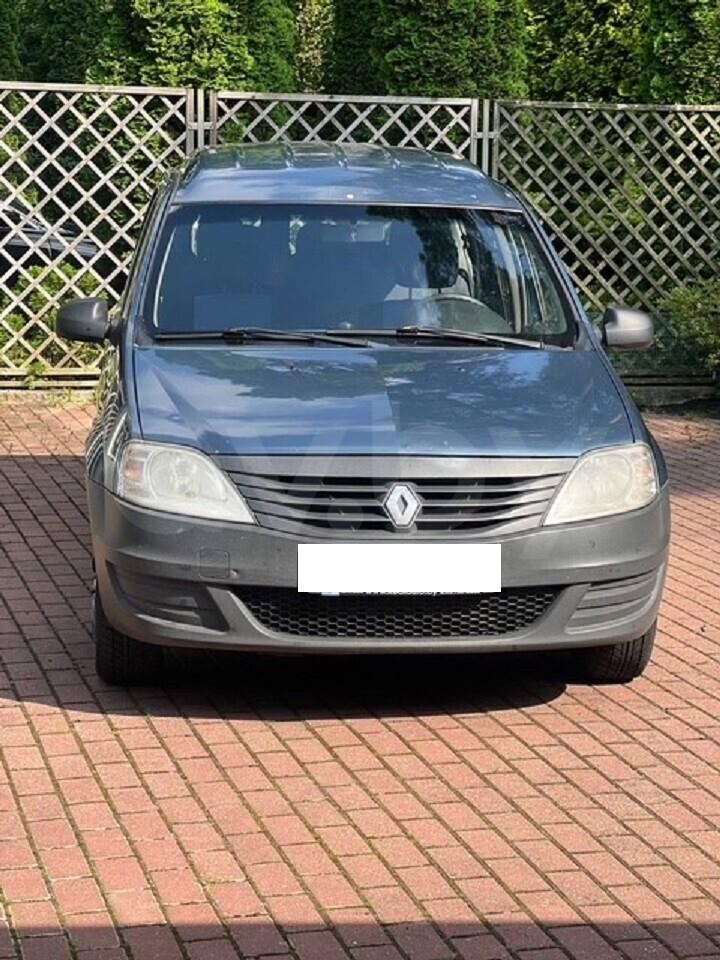Logan_2008-2015: (54, 136, 685, 709)
